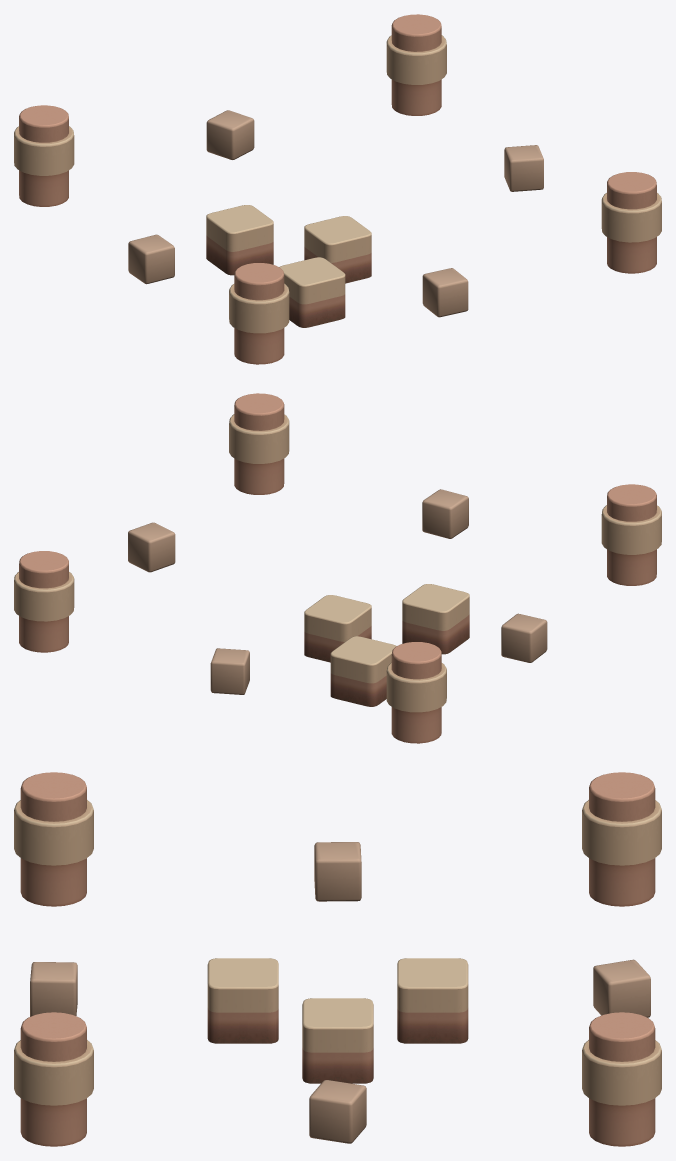
The model's file is Props.fbx.
3 renders of one model, top to bottom at view 1: azimuth 30°, elevation 25°; view 2: azimuth 150°, elevation 25°; view 3: azimuth 270°, elevation 25°, orthographic. The views are drawn at different scales.
Visible parts, largest first — view 1: Cylinder-2, Cylinder-2 (3), Cylinder-2 (1), Cylinder-2 (2), Box01 (1), Box01, Box01 (2), Box1-6, Box1-6 (2), Box1-6 (1), Box1-6 (3); view 2: Cylinder-2 (1), Cylinder-2 (2), Cylinder-2, Cylinder-2 (3), Box01, Box01 (1), Box01 (2), Box1-6 (3), Box1-6 (1), Box1-6 (2), Box1-6; view 3: Cylinder-2 (1), Cylinder-2 (3), Cylinder-2, Cylinder-2 (2), Box01, Box01 (1), Box01 (2), Box1-6 (3), Box1-6, Box1-6 (2), Box1-6 (1).
Boxes of the visible parts, bbox=[...] form: Cylinder-2: bbox=[229, 263, 289, 364]; Cylinder-2 (3): bbox=[386, 14, 446, 115]; Cylinder-2 (1): bbox=[601, 172, 661, 273]; Cylinder-2 (2): bbox=[14, 105, 74, 206]; Box01 (1): bbox=[206, 205, 273, 275]; Box01: bbox=[279, 257, 345, 327]; Box01 (2): bbox=[304, 216, 371, 283]; Box1-6: bbox=[206, 110, 254, 159]; Box1-6 (2): bbox=[128, 234, 174, 284]; Box1-6 (1): bbox=[422, 268, 468, 317]; Box1-6 (3): bbox=[504, 145, 543, 191]; Cylinder-2 (1): bbox=[229, 393, 289, 494]; Cylinder-2 (2): bbox=[386, 642, 446, 743]; Cylinder-2: bbox=[601, 484, 661, 585]; Cylinder-2 (3): bbox=[14, 551, 74, 652]; Box01: bbox=[402, 584, 469, 654]; Box01 (1): bbox=[330, 636, 396, 706]; Box01 (2): bbox=[304, 595, 371, 662]; Box1-6 (3): bbox=[128, 522, 175, 572]; Box1-6 (1): bbox=[422, 489, 468, 538]; Box1-6 (2): bbox=[501, 613, 547, 662]; Box1-6: bbox=[210, 648, 249, 694]; Cylinder-2 (1): bbox=[14, 1012, 93, 1146]; Cylinder-2 (3): bbox=[582, 1012, 661, 1146]; Cylinder-2: bbox=[14, 772, 93, 906]; Cylinder-2 (2): bbox=[582, 772, 661, 906]; Box01: bbox=[207, 958, 278, 1043]; Box01 (1): bbox=[397, 958, 468, 1043]; Box01 (2): bbox=[302, 998, 373, 1083]; Box1-6 (3): bbox=[309, 1080, 366, 1143]; Box1-6: bbox=[593, 959, 650, 1017]; Box1-6 (2): bbox=[314, 842, 361, 901]; Box1-6 (1): bbox=[30, 962, 77, 1016].
Size of the model in its own units: 27.38 by 7.62 by 27.38.
3 materials, 3 textured.
